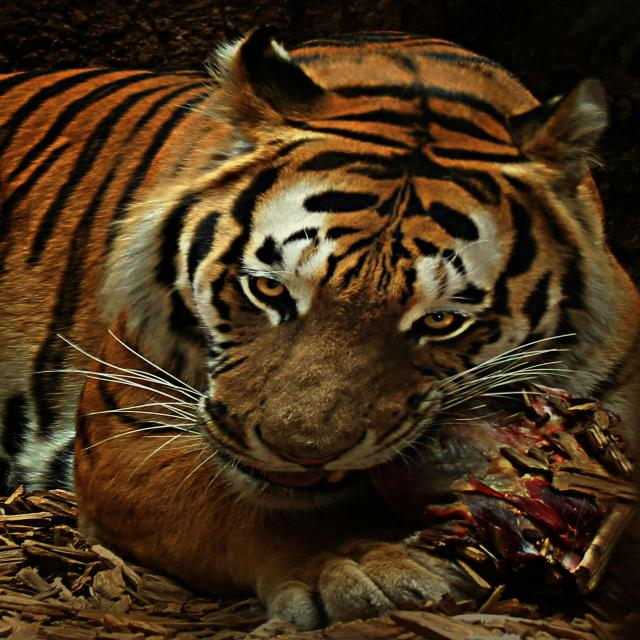Tiger: (0, 29, 640, 628)
